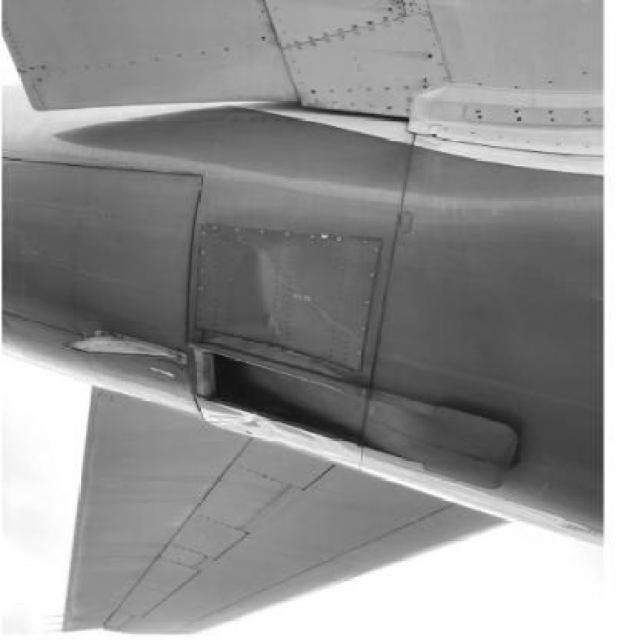dent: (234, 246, 306, 346)
